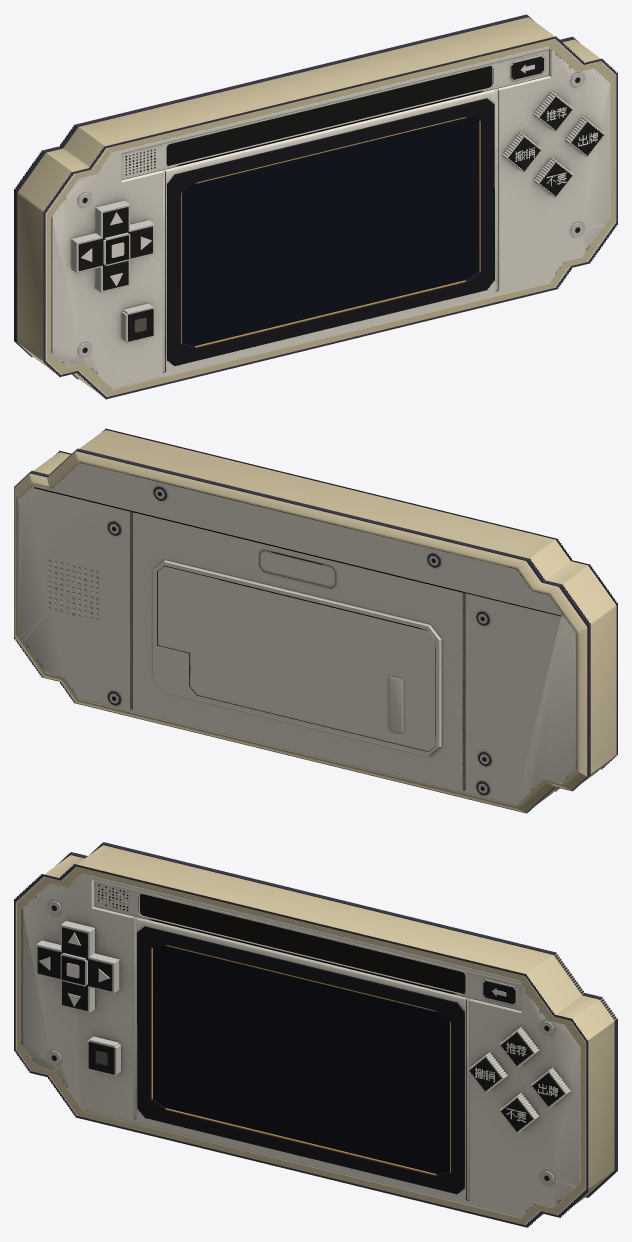
File: console-b.glb
3 views of the same model, one above another, from view 1: azimuth 30°, elevation 25°; view 2: azimuth 150°, elevation 25°; view 3: azimuth 330°, elevation 25° (orthographic).
Visible parts, largest first — view 1: Screen, Shell, SideBand, Bezel, Buttons, SubDisplay, Trim, BackKey, Screws; view 2: Shell, SideBand, Screws; view 3: Screen, Shell, SideBand, Bezel, Buttons, SubDisplay, Trim, BackKey, Screws.
Part boxes in pixels (box(x1,y1,x2,y2)): Screen: box(182, 117, 478, 346); Shell: box(51, 46, 610, 389); SideBand: box(14, 14, 617, 399); Bezel: box(167, 98, 494, 366); Buttons: box(71, 91, 604, 342); SubDisplay: box(166, 65, 493, 166); Trim: box(181, 117, 480, 347); BackKey: box(510, 55, 544, 81); Screws: box(78, 73, 583, 357); Shell: box(18, 462, 576, 805); SideBand: box(14, 428, 617, 813); Screws: box(107, 486, 491, 795); Screen: box(153, 946, 449, 1173); Shell: box(21, 873, 580, 1217); SideBand: box(14, 842, 617, 1227); Bezel: box(137, 926, 464, 1194); Buttons: box(36, 921, 570, 1133); SubDisplay: box(138, 893, 465, 994); Trim: box(151, 945, 450, 1175); BackKey: box(482, 979, 517, 1005); Screws: box(48, 901, 553, 1185).
Size of the model in its own units: 200 by 84.4 by 25.56.
18 materials, 3 textured.
